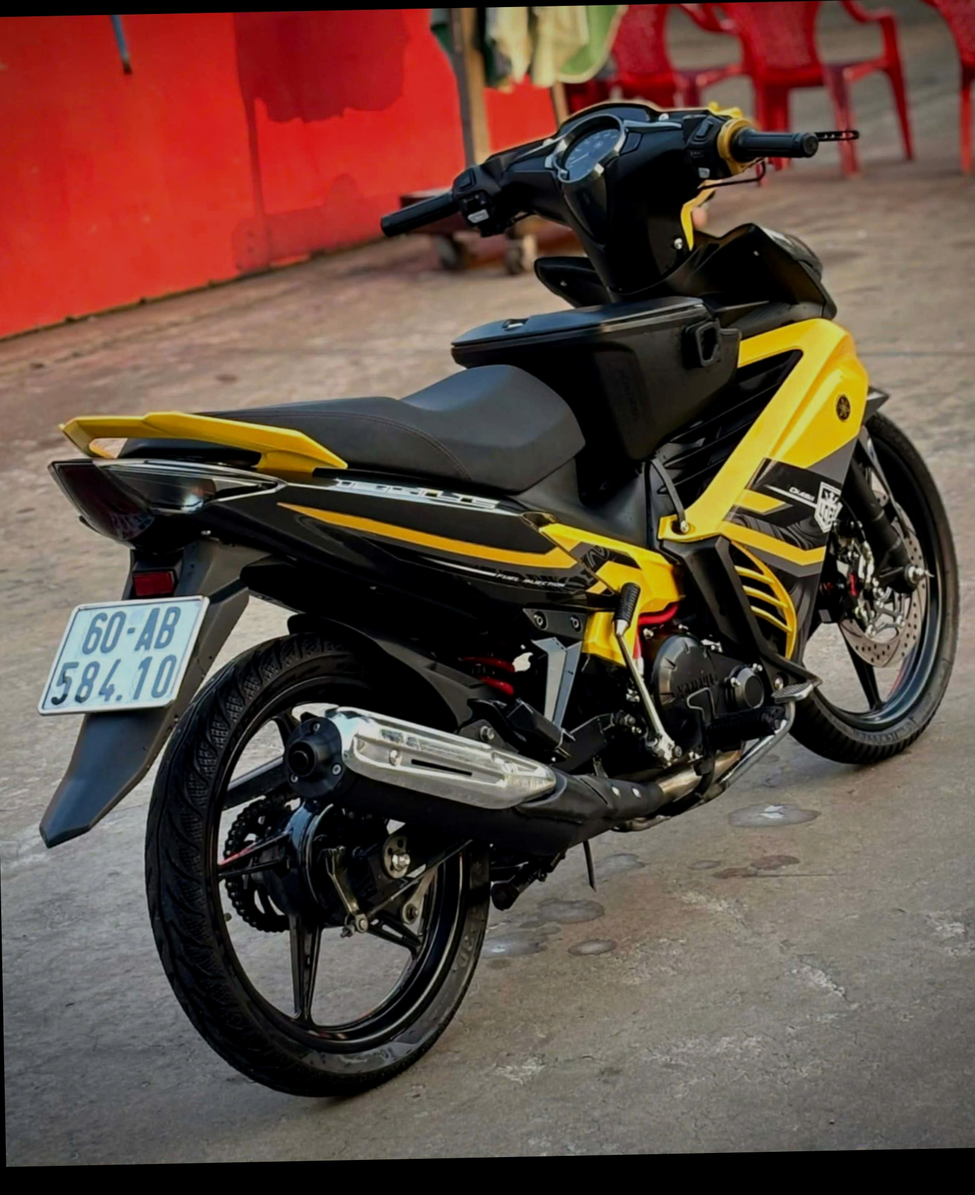Bien-so: (81, 590, 235, 707)
